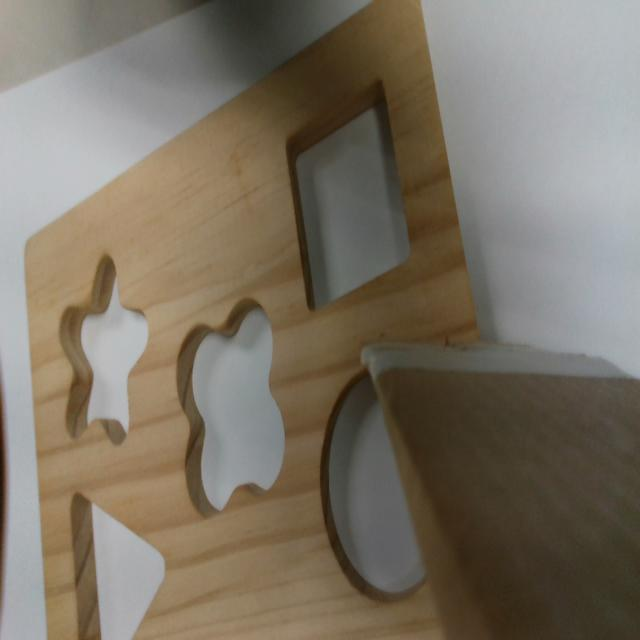circle: (322, 367, 430, 598)
flower: (171, 295, 284, 519)
square: (284, 79, 414, 306)
star: (58, 257, 148, 441)
triangle: (70, 490, 168, 637)
